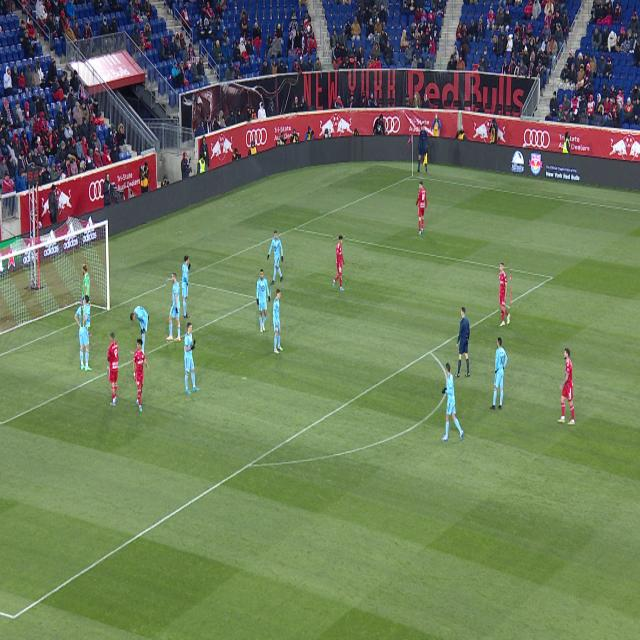goalkeeper: (81, 264, 90, 327)
player: (441, 363, 464, 441), (489, 338, 508, 410), (557, 349, 575, 425), (75, 297, 92, 372), (133, 341, 149, 412), (184, 323, 200, 394), (167, 273, 180, 341), (267, 230, 283, 285), (257, 269, 270, 332), (131, 307, 148, 355), (108, 332, 118, 406), (333, 236, 345, 291), (273, 289, 283, 354), (500, 263, 510, 327), (416, 182, 427, 236), (182, 256, 190, 318)
referee: (455, 307, 470, 377)
